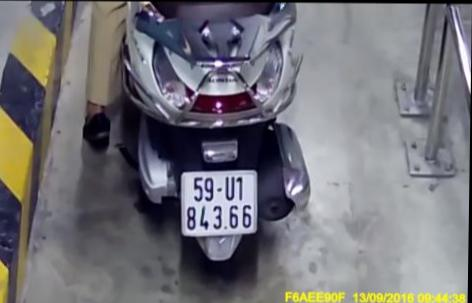LP: (182, 169, 258, 236)
